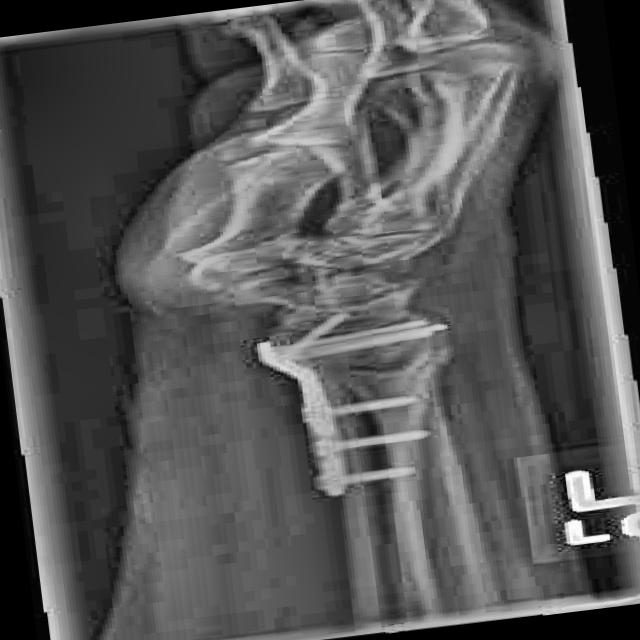wrist positive: (286, 315, 492, 393)
